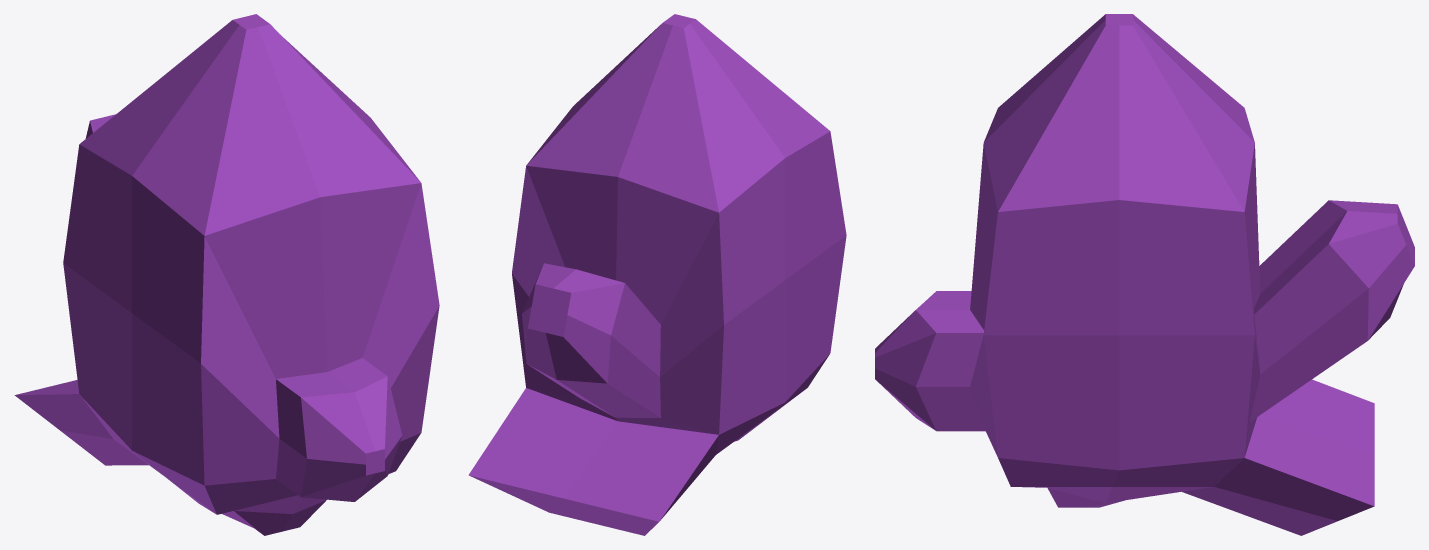
File: mdlGiganticAmethyst.fbx
3 views of the same model, side by side, from view 1: azimuth 30°, elevation 25°; view 2: azimuth 150°, elevation 25°; view 3: azimuth 270°, elevation 25° (orthographic). The views are drawn at different scales.
Visible parts, largest first — view 1: Cube; view 2: Cube; view 3: Cube.
Boxes of the visible parts, x1,y1,x2,y2 form: Cube: (14, 14, 439, 535); Cube: (468, 14, 846, 535); Cube: (875, 14, 1414, 535).
Size of the model in its own units: 220 by 439 by 438.
